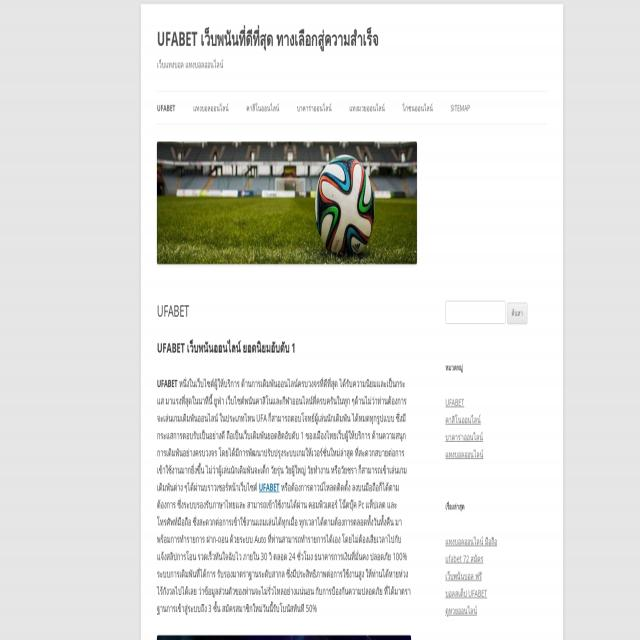button: (157, 141, 417, 264), (193, 88, 229, 120), (349, 88, 385, 120), (297, 88, 331, 120), (247, 88, 280, 120), (403, 88, 433, 120), (450, 88, 470, 120), (157, 88, 175, 120), (507, 303, 527, 324)
field: (446, 301, 506, 324)
